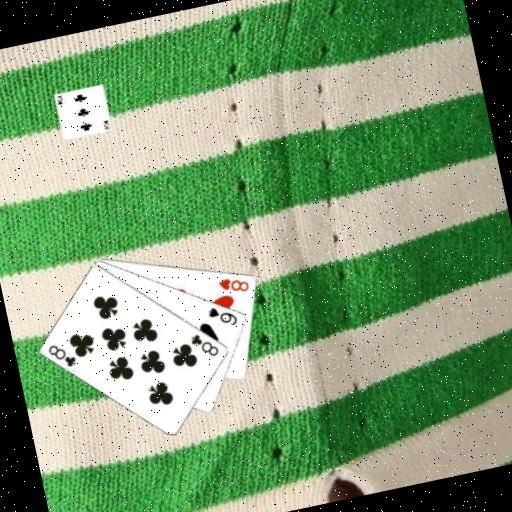6S: (204, 300, 240, 332)
8C: (186, 327, 222, 363), (44, 337, 79, 372)
8H: (214, 271, 251, 298)
